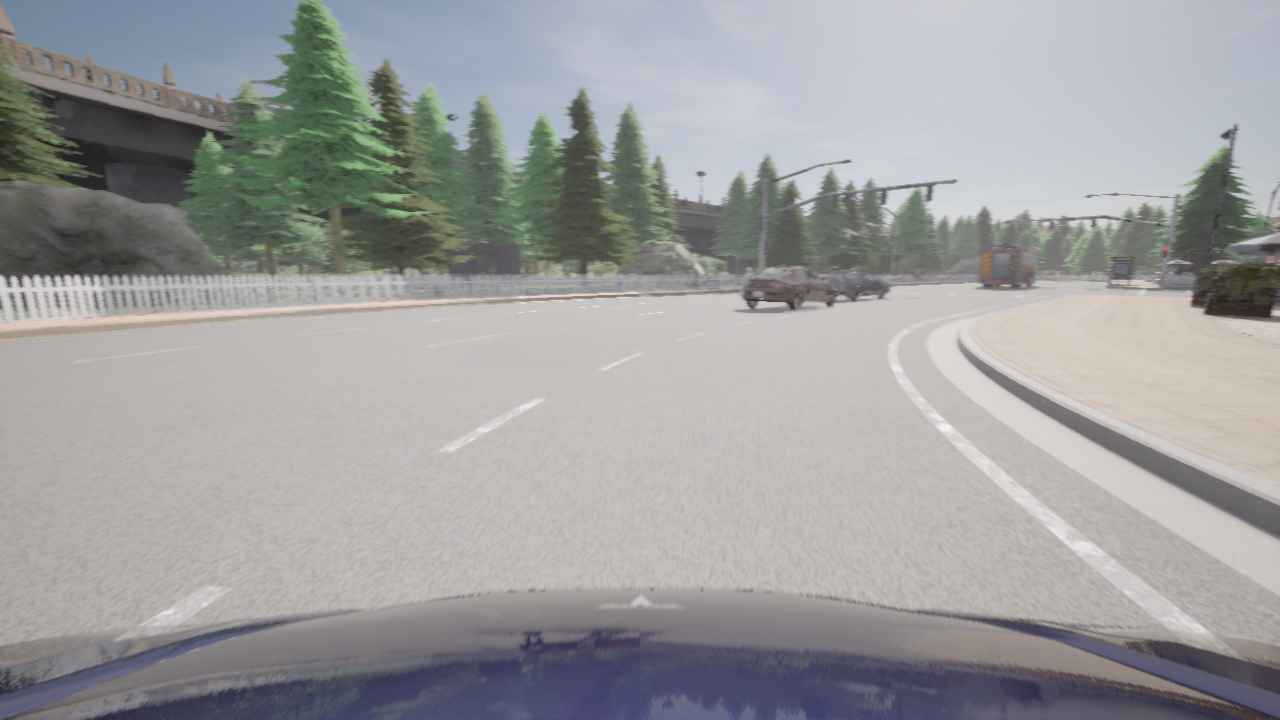cyclist: (0, 588, 1279, 719), (742, 266, 837, 310), (979, 243, 1040, 287), (824, 269, 890, 301)
